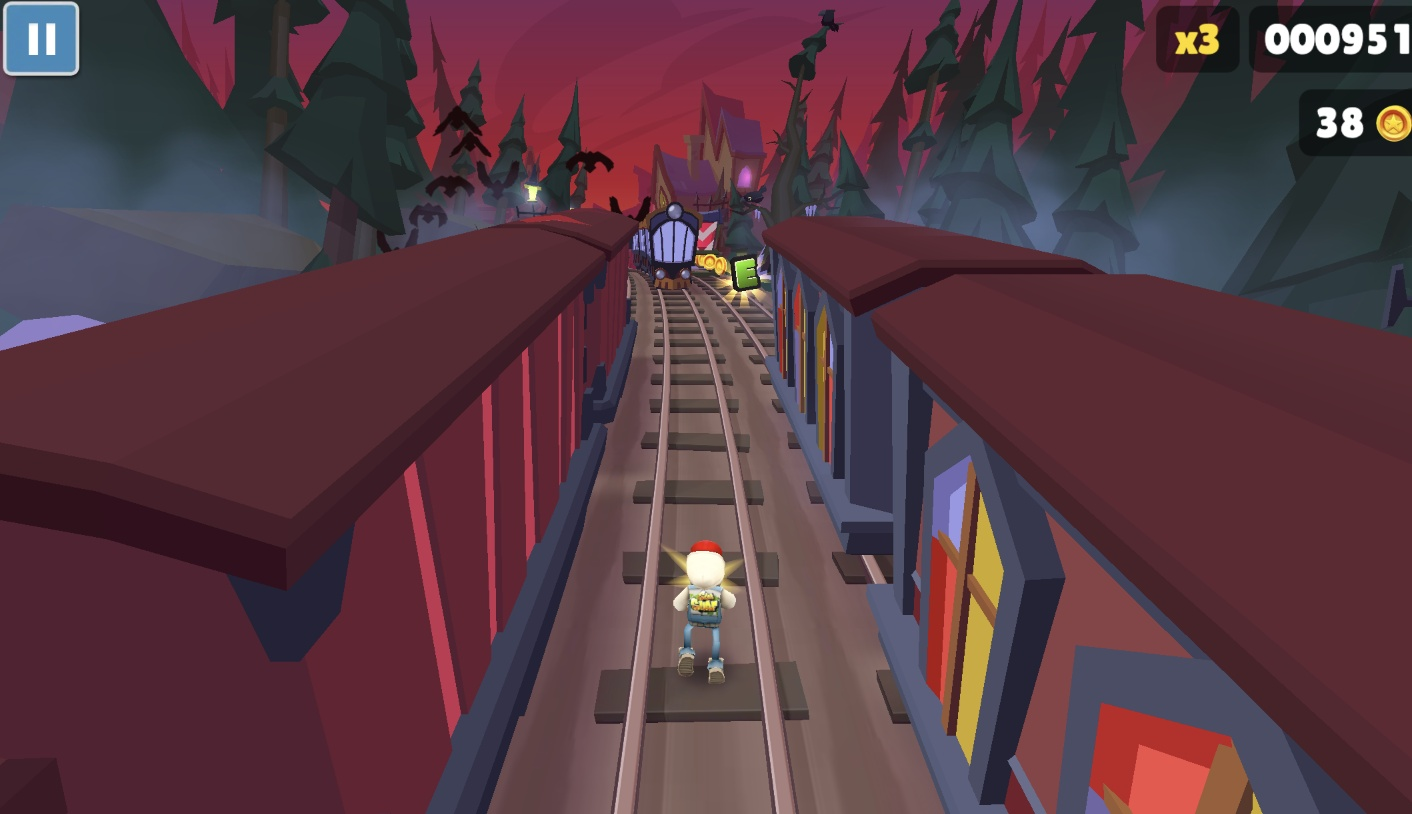overhead_barrier: (695, 212, 723, 271)
train: (0, 216, 627, 814), (800, 246, 1412, 814), (636, 202, 704, 294)
